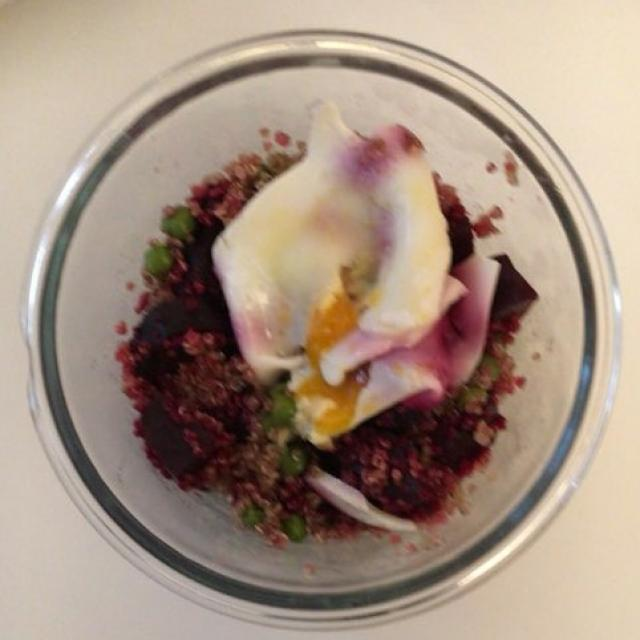beetroot-steamed-without-addition-of-salt: (122, 181, 529, 520)
egg: (207, 106, 482, 437)
quinoa: (103, 133, 519, 547)
